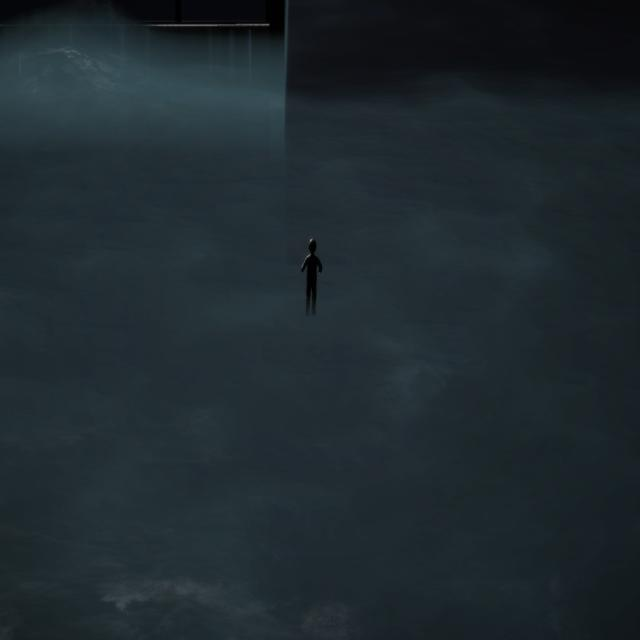Human: (299, 227, 326, 321)
